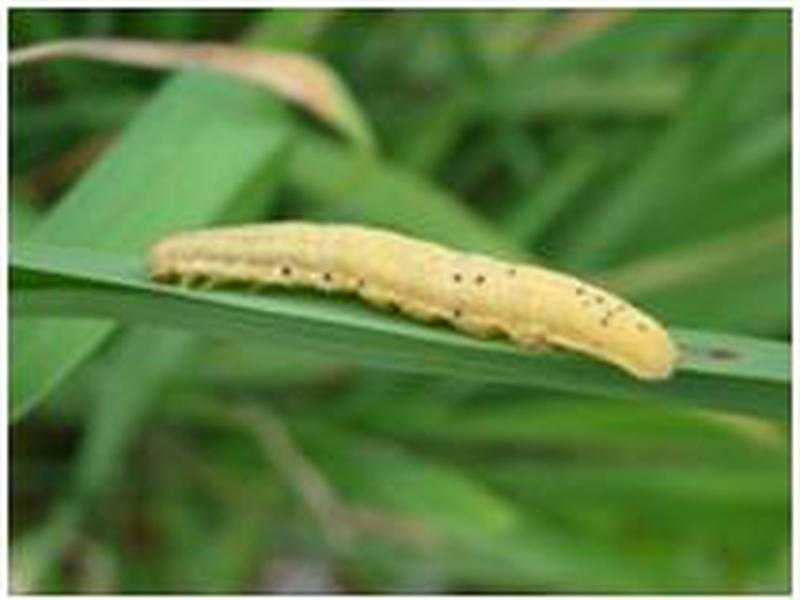Rice_horned_caterpillar: (135, 203, 694, 415)
